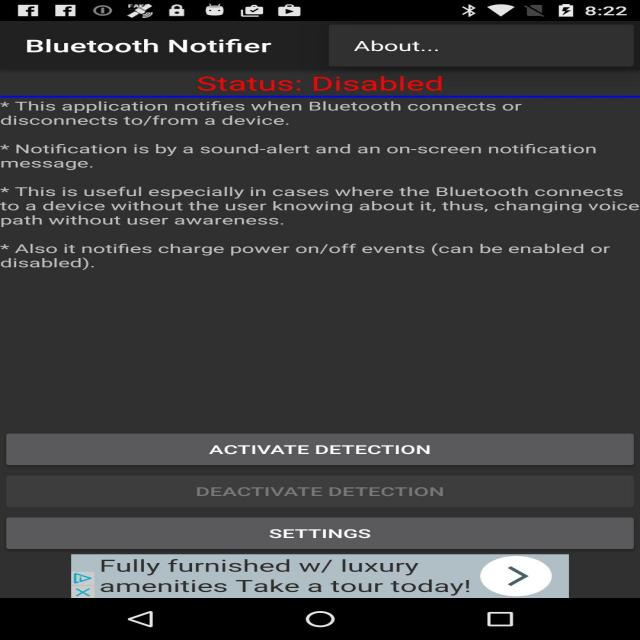button: (142, 433, 493, 464), (164, 517, 461, 551), (162, 476, 486, 505), (340, 36, 497, 58)
text: (0, 182, 632, 236), (0, 131, 608, 174), (6, 85, 571, 129), (0, 241, 625, 278), (184, 68, 495, 107), (10, 27, 331, 53)
